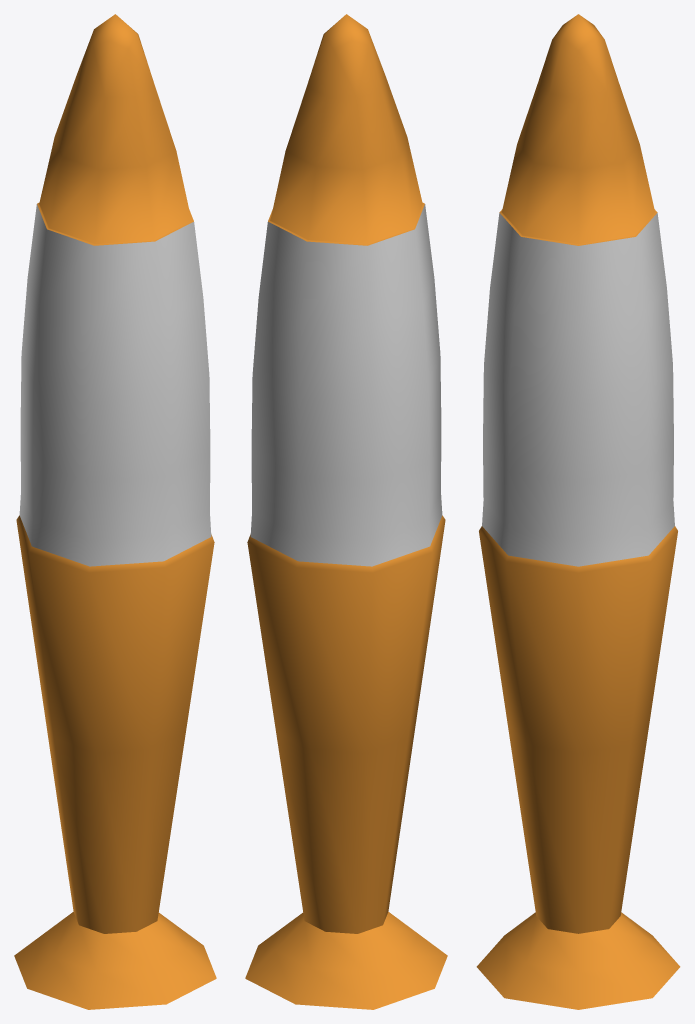
The model's file is SM_LampeALave.fbx.
The picture shows the model from 3 angles, left to right: view 1: azimuth 30°, elevation 25°; view 2: azimuth 150°, elevation 25°; view 3: azimuth 270°, elevation 25°; orthographic projection.
Visible parts, largest first — view 1: Lampe à lave; view 2: Lampe à lave; view 3: Lampe à lave.
Boxes of the visible parts, x1=… form: Lampe à lave: x1=14, y1=14, x2=216, y2=1009; Lampe à lave: x1=245, y1=14, x2=447, y2=1009; Lampe à lave: x1=476, y1=14, x2=680, y2=1009.
Size of the model in its own units: 183 by 945 by 183.
